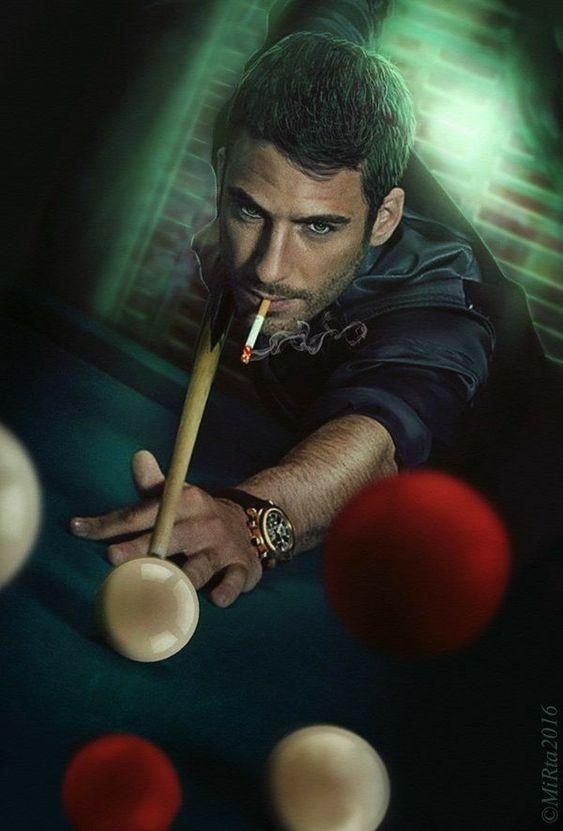cigarette: (242, 298, 271, 364)
